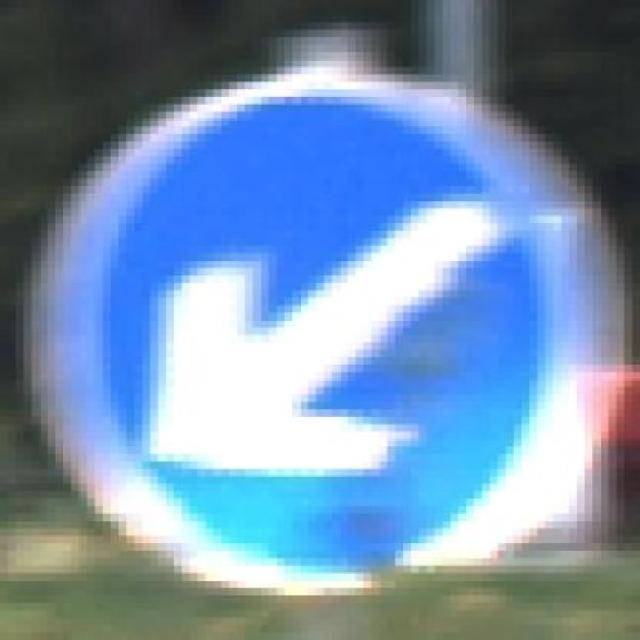Keep-Left: (31, 59, 624, 596)
